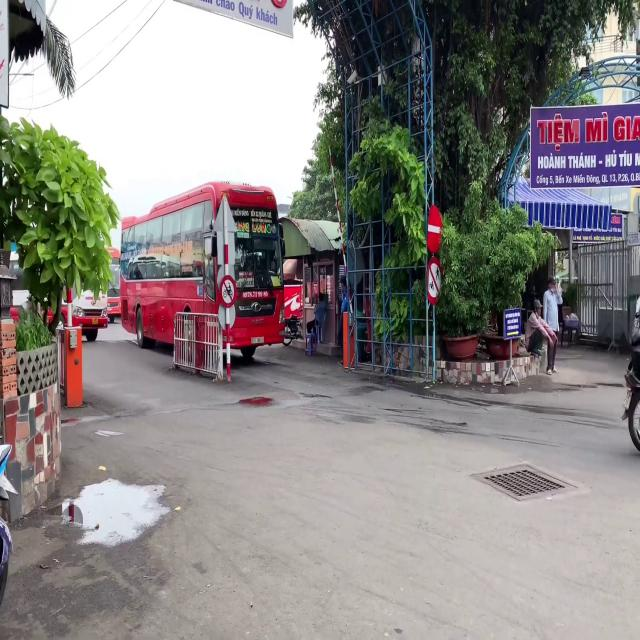bien_trang: (251, 337, 264, 343)
